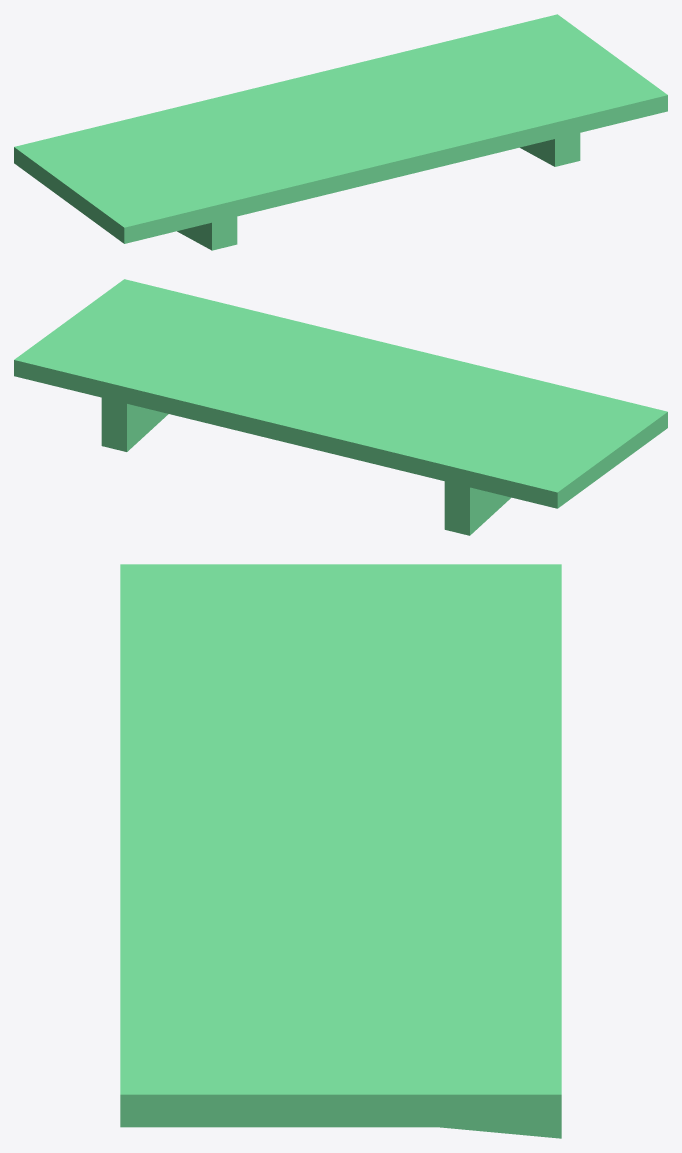
File: Shelf.fbx
The picture shows the model from 3 angles, top to bottom: view 1: azimuth 30°, elevation 25°; view 2: azimuth 150°, elevation 25°; view 3: azimuth 270°, elevation 25°; orthographic projection. The views are drawn at different scales.
Visible parts, largest first — view 1: Shelf; view 2: Shelf; view 3: Shelf.
Boxes of the visible parts, x1,y1,x2,y2 form: Shelf: (14,14,667,250); Shelf: (14,279,667,535); Shelf: (120,564,561,1138).
Size of the model in its own units: 69.8 by 7.95 by 24.55.
